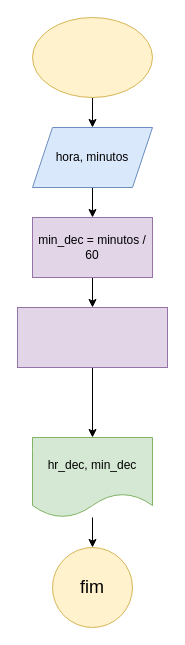
Some shapes in this 185 by 645 pixel diagram are drawn without their labels. The centre of each missing label's shape, as x and y in pixels:
hr_dec = hora + min_dec: pixel 92 337
inicio: pixel 92 57
